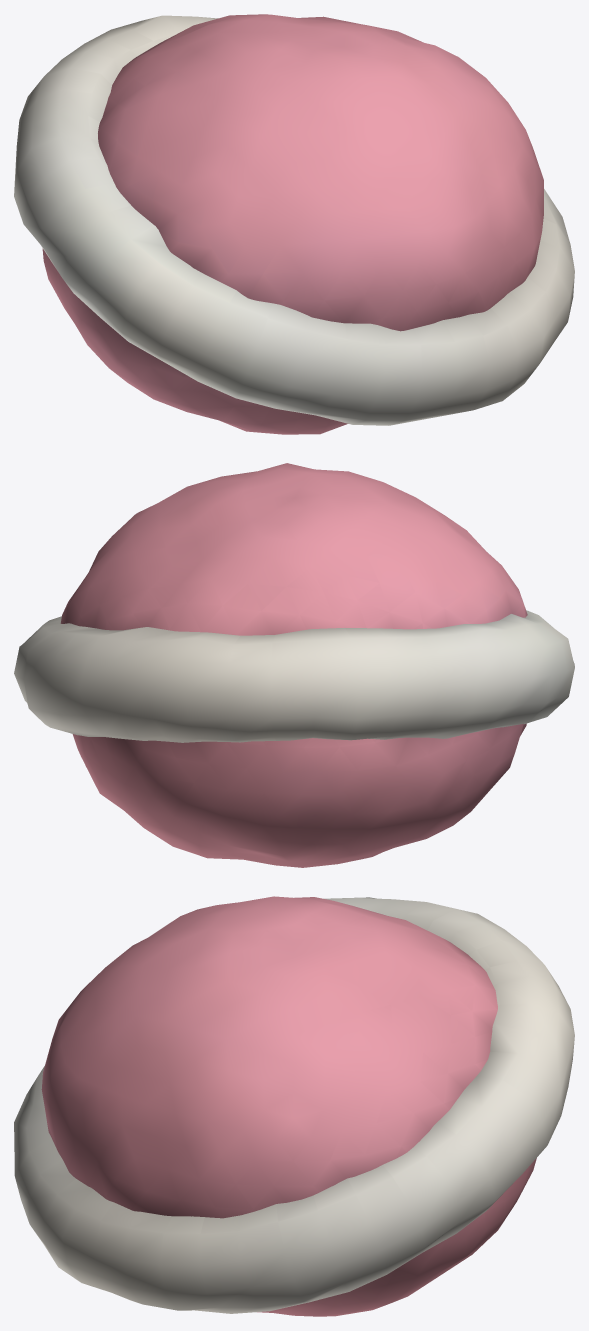
Rendered from den_sock_ball.glb.
3 renders of one model, top to bottom at view 1: azimuth 30°, elevation 25°; view 2: azimuth 150°, elevation 25°; view 3: azimuth 270°, elevation 25°, orthographic. The views are drawn at different scales.
Parts seen in each view (by area): view 1: den_sock_ball; view 2: den_sock_ball; view 3: den_sock_ball.
Boxes of the visible parts, x1,y1,x2,y2 form: den_sock_ball: (14,14,574,434); den_sock_ball: (14,463,574,867); den_sock_ball: (14,896,574,1316).
Bounding box in the file's own units: 7.41 × 5.19 × 7.2.
